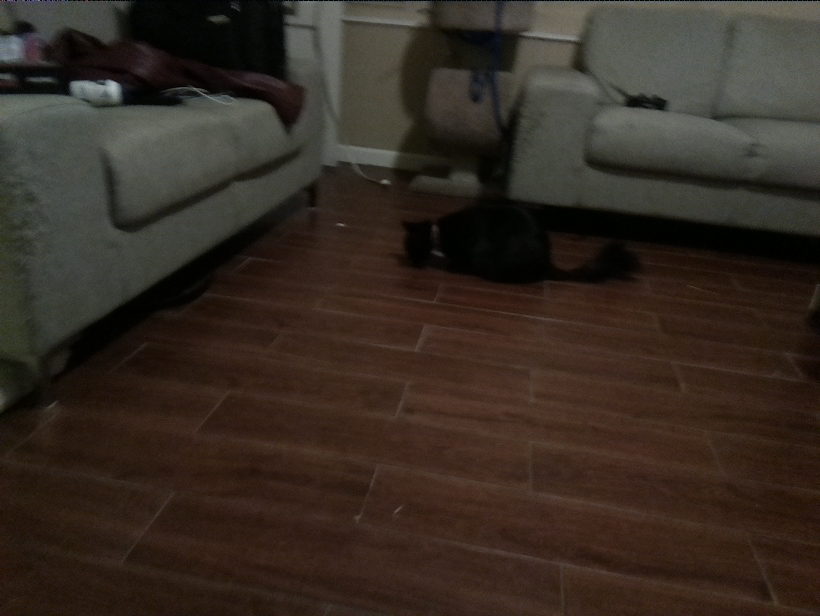cat: (397, 197, 644, 295)
